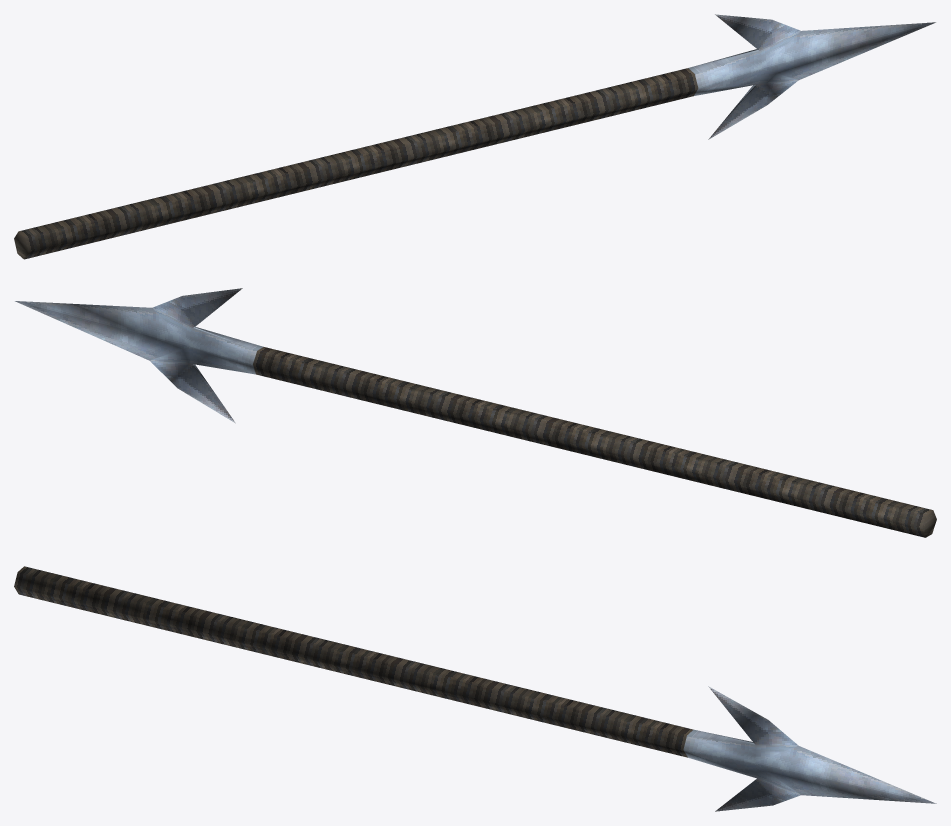
3 renders of one model, top to bottom at view 1: azimuth 30°, elevation 25°; view 2: azimuth 150°, elevation 25°; view 3: azimuth 330°, elevation 25°, orthographic.
Parts seen in each view (by area): view 1: it132; view 2: it132; view 3: it132.
Boxes of the visible parts, x1,y1,x2,y2 form: it132: [14, 14, 935, 259]; it132: [15, 288, 936, 537]; it132: [14, 566, 936, 811].
Size of the model in its own units: 7.62 by 1.04 by 0.2129.
Materials: 3 (3 with a texture image).
